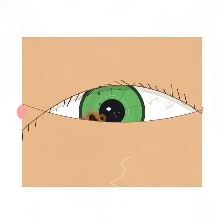foreign_body_visible: (71, 101, 114, 136)
